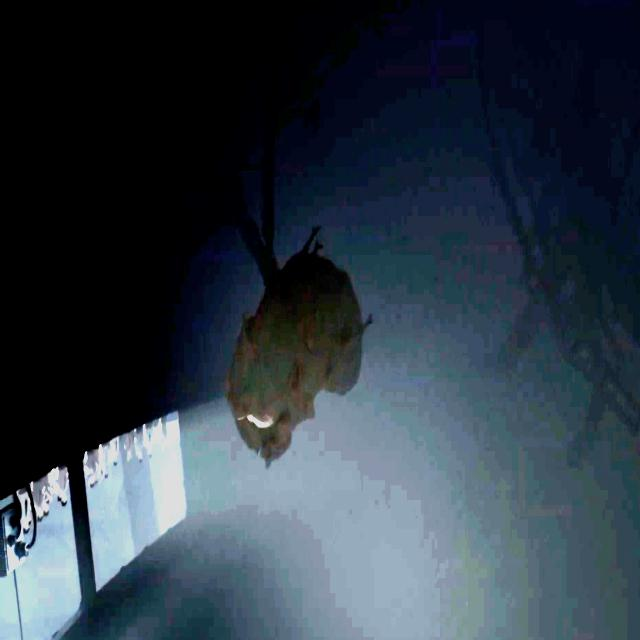blob: (229, 224, 372, 466)
human: (18, 489, 29, 534), (56, 468, 68, 507), (32, 478, 42, 522), (158, 416, 170, 451), (84, 453, 95, 489), (41, 476, 49, 520), (144, 423, 154, 458), (134, 428, 144, 463), (100, 446, 110, 479), (51, 469, 61, 502), (124, 433, 134, 463), (110, 440, 119, 468), (28, 485, 32, 525), (95, 449, 99, 485), (45, 493, 51, 504)
interactible: (0, 485, 38, 580)
